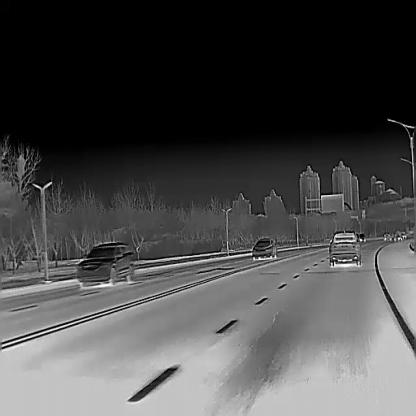car: (77, 241, 133, 285), (328, 230, 362, 266), (252, 238, 276, 258), (358, 232, 366, 242), (383, 233, 391, 240)
